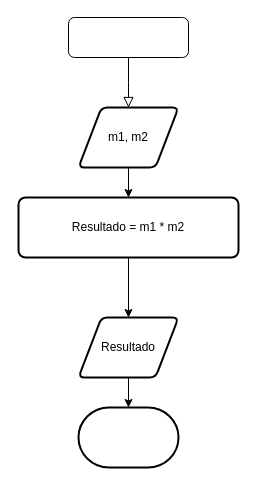
This 256x486 diagram has some shape labels left out. Each missing label, with the centre of its shape:
Fin: (x=128, y=437)
Multiplicando: (x=128, y=37)
